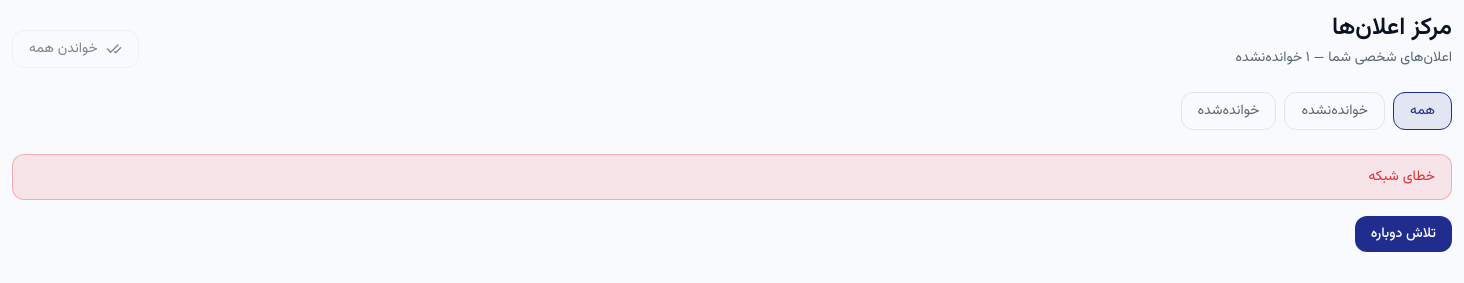
it: CoreNotificationsView › shows an error with a retry that refetches
Click the button "تلاش دوباره". click: (1403, 234)
box: [1355,216,1452,252]
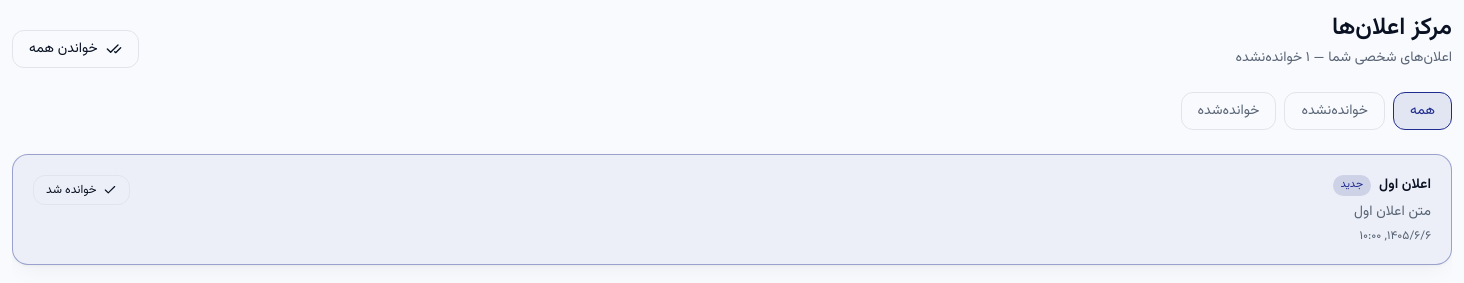
Check: the heading "اعلان اول" is shown, box [1379,175,1431,195]
